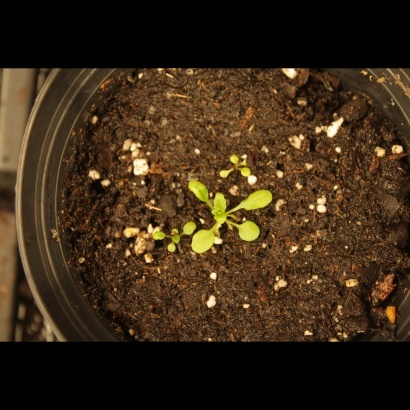leaf: (234, 187, 282, 218), (231, 220, 267, 247), (186, 175, 212, 210), (191, 225, 216, 259), (207, 190, 231, 214), (145, 220, 168, 243), (154, 243, 177, 266), (175, 215, 198, 238), (241, 167, 264, 190), (222, 146, 245, 169), (216, 166, 239, 189), (211, 211, 234, 234)
